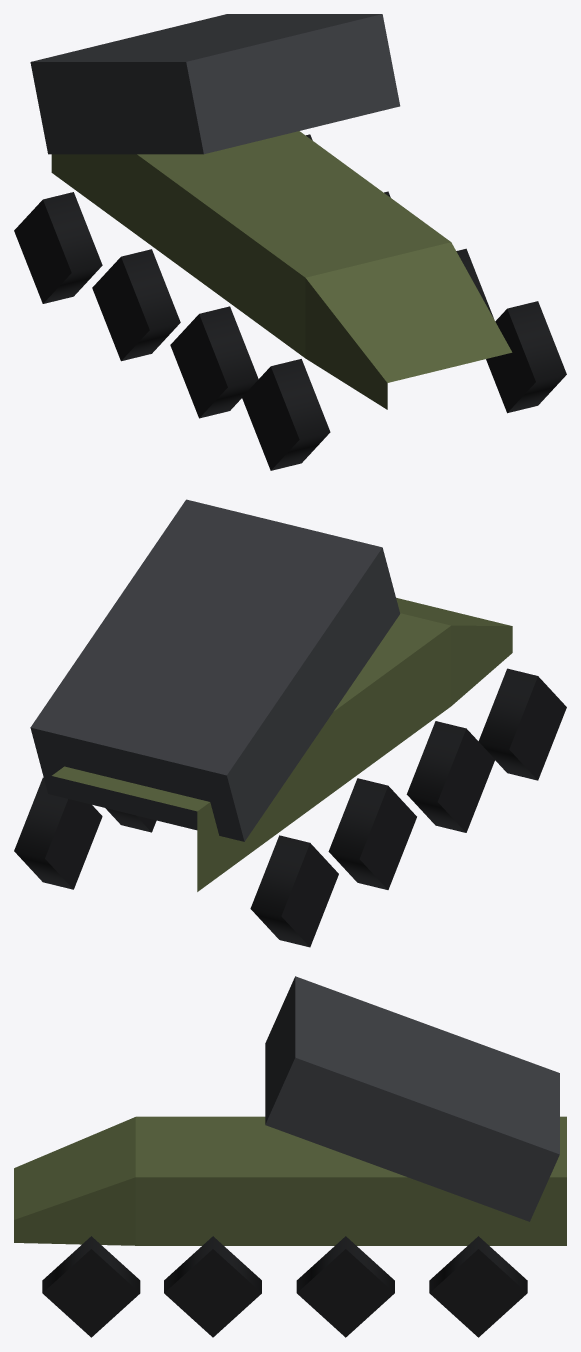
The model's file is veh_ground_rocket_launcher_a06_lod2.glb.
3 renders of one model, top to bottom at view 1: azimuth 30°, elevation 25°; view 2: azimuth 150°, elevation 25°; view 3: azimuth 270°, elevation 25°, orthographic. The views are drawn at different scales.
Parts seen in each view (by area): view 1: body, launcher, wheel_6, wheel_2, wheel_0, wheel_4, wheel_7; view 2: launcher, body, wheel_4, wheel_2, wheel_0, wheel_6, wheel_1, wheel_3; view 3: body, launcher, wheel_1, wheel_7, wheel_3, wheel_5.
Part boxes in pixels (left/top/right/bottom): body: left=51, top=131, right=512, bottom=409; launcher: left=30, top=14, right=400, bottom=154; wheel_6: left=242, top=359, right=330, bottom=470; wheel_2: left=92, top=249, right=180, bottom=361; wheel_0: left=14, top=192, right=102, bottom=303; wheel_4: left=170, top=306, right=258, bottom=418; wheel_7: left=486, top=301, right=566, bottom=413; launcher: left=30, top=499, right=400, bottom=841; body: left=52, top=597, right=512, bottom=891; wheel_4: left=406, top=721, right=495, bottom=832; wheel_2: left=328, top=778, right=416, bottom=889; wheel_0: left=250, top=835, right=338, bottom=947; wheel_6: left=478, top=668, right=566, bottom=780; wheel_1: left=14, top=777, right=102, bottom=889; wheel_3: left=105, top=808, right=156, bottom=832; body: left=14, top=1116, right=566, bottom=1245; launcher: left=265, top=976, right=559, bottom=1221; wheel_1: left=429, top=1236, right=527, bottom=1337; wheel_7: left=42, top=1236, right=140, bottom=1337; wheel_3: left=296, top=1236, right=394, bottom=1337; wheel_5: left=164, top=1236, right=261, bottom=1337.
Bounding box in the file's own units: 2.94 × 3.28 × 6.2.
